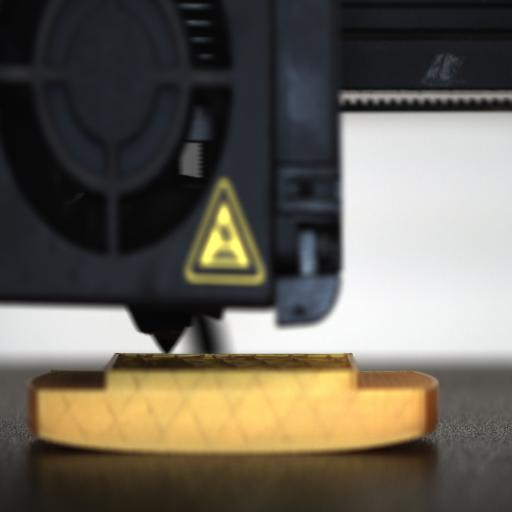warp: (392, 410, 441, 456), (24, 415, 72, 452)
